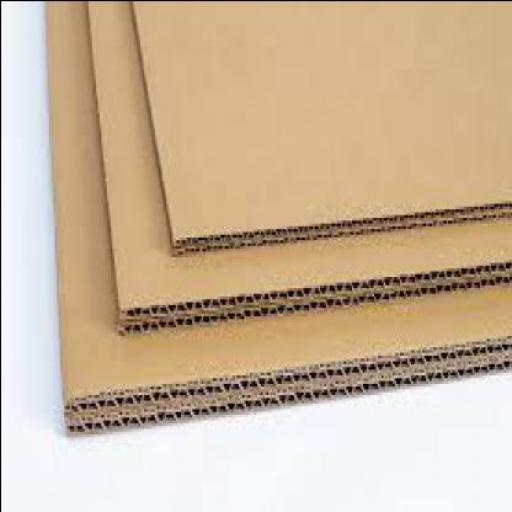cardboard: (43, 2, 511, 434), (87, 0, 511, 334), (129, 2, 511, 252)
